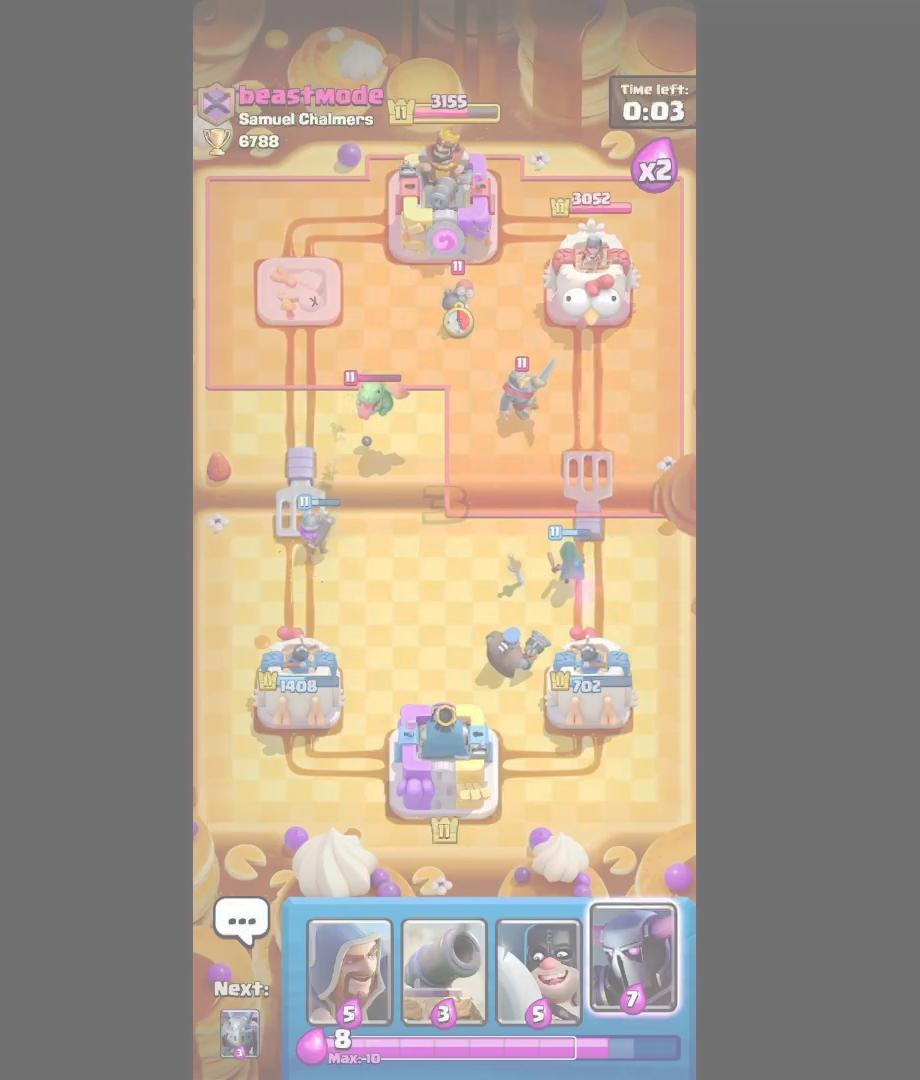Baby Dragon: (343, 367, 412, 426)
Bomber: (435, 267, 486, 341)
Knight: (494, 351, 563, 427)
